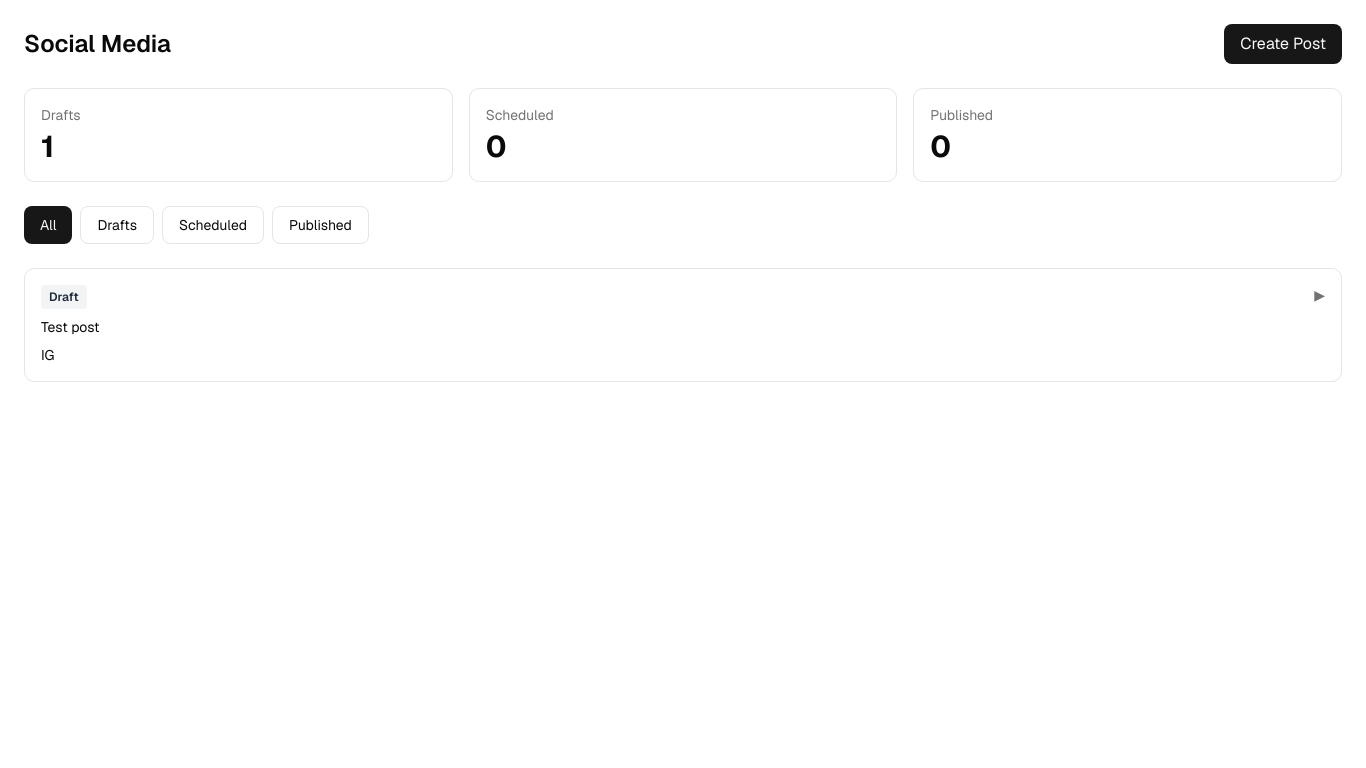
it: SocialMedia › expands and collapses post details
# Click to expand
Click the text "Test post". click: click(70, 324)
box: [41,285,100,364]
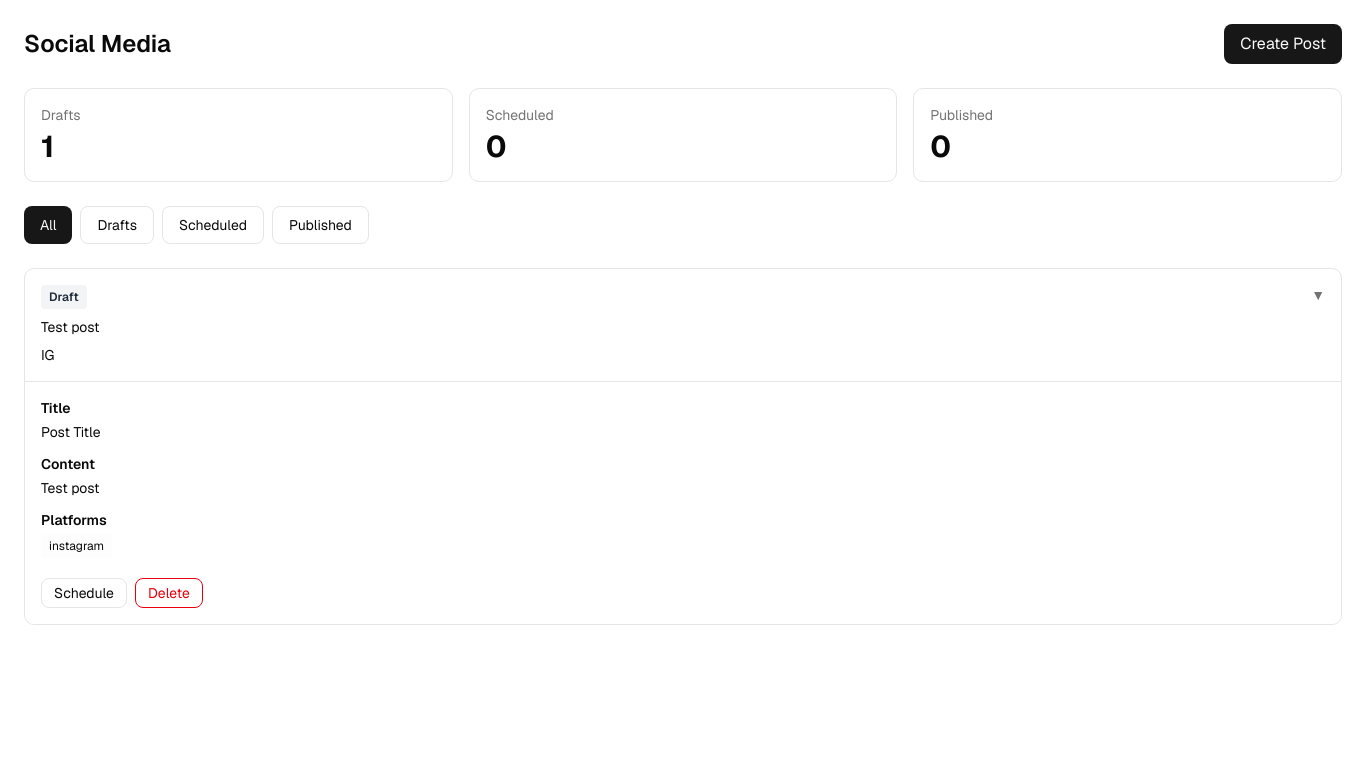
Result: the text "Post Title" is shown at [41,423,101,441]
